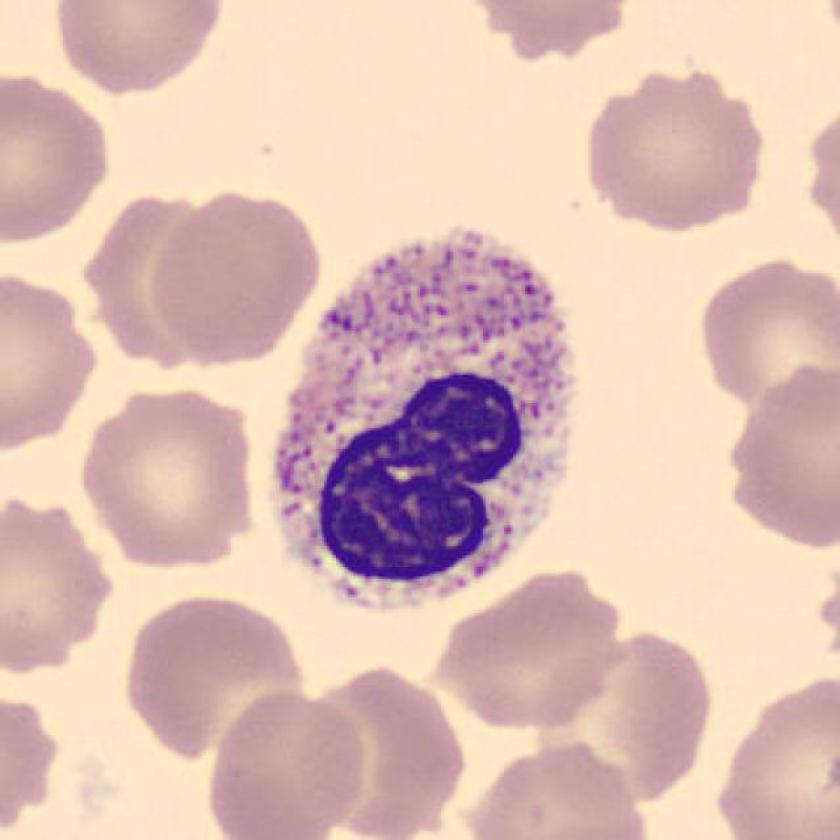neutrophil: (271, 235, 572, 611)
